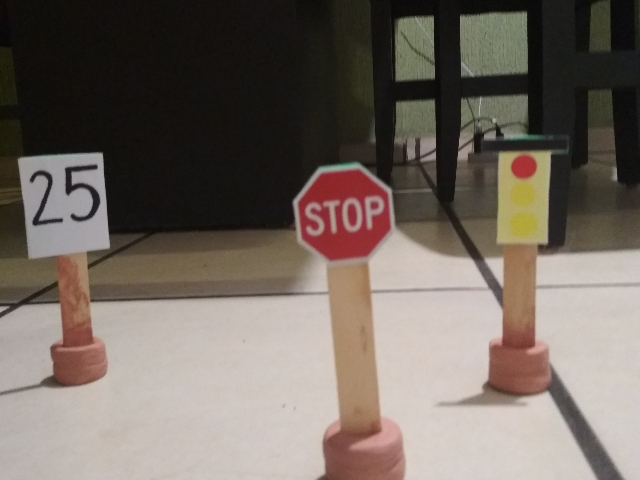Limit 25: (13, 149, 114, 265)
Red: (477, 134, 570, 246)
Stop: (289, 159, 396, 264)
